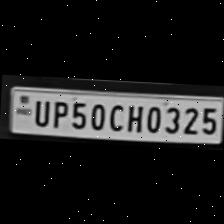0: (86, 99, 106, 129), (142, 102, 162, 132)
2: (178, 104, 199, 134)
3: (160, 102, 180, 134)
5: (66, 97, 88, 129), (198, 103, 218, 135)
C: (105, 100, 123, 130)
H: (122, 102, 144, 132)
P: (49, 97, 69, 127)
U: (30, 96, 50, 127)
